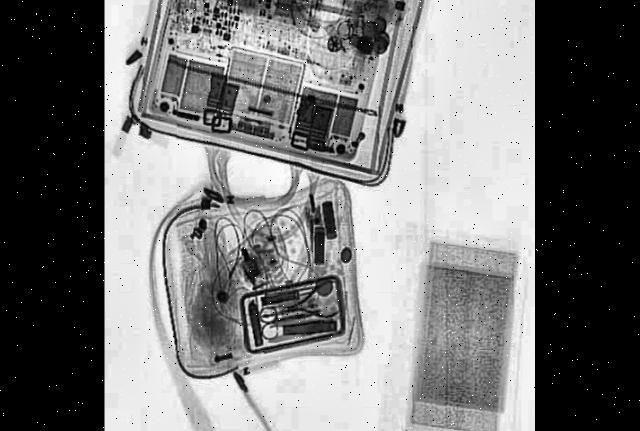Scissors: (260, 294, 323, 342)
